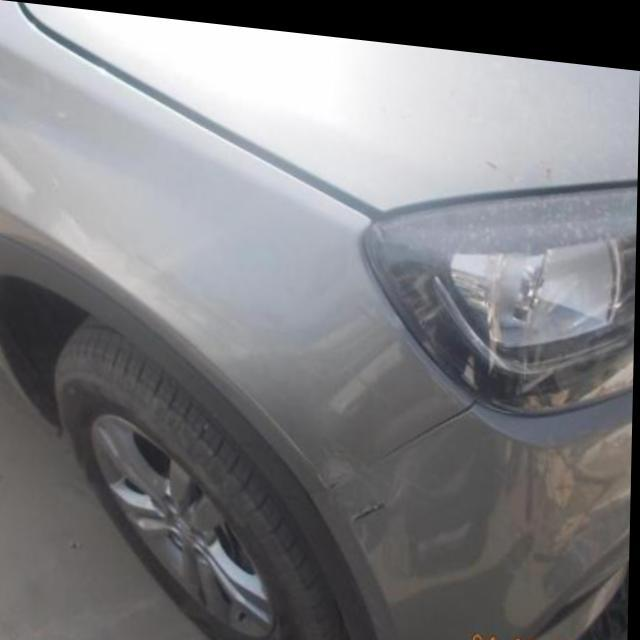scratch: (322, 439, 381, 500), (484, 148, 557, 167), (356, 490, 392, 518)
